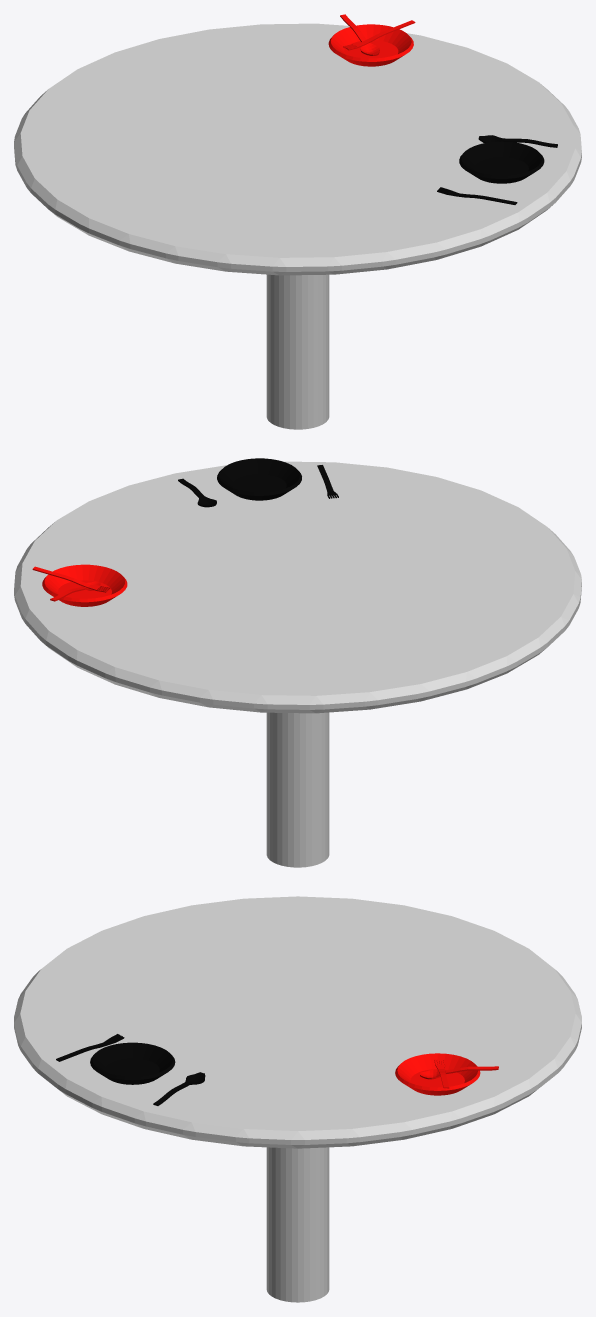
The model's file is plate2.gltf.
3 views of the same model, one above another, from view 1: azimuth 30°, elevation 25°; view 2: azimuth 150°, elevation 25°; view 3: azimuth 270°, elevation 25° (orthographic).
Parts seen in each view (by area): view 1: table, plate, plate2; view 2: table, plate, plate2; view 3: table, plate, plate2.
Boxes of the visible parts, box(x1,y1,x2,y2) form: table: box(14, 23, 581, 429); plate: box(437, 135, 557, 204); plate2: box(328, 14, 415, 66); table: box(14, 461, 581, 867); plate: box(178, 458, 338, 507); plate2: box(32, 564, 127, 606); table: box(14, 896, 581, 1302); plate: box(56, 1034, 205, 1105); plate2: box(395, 1053, 498, 1095).
Bounding box in the file's own units: 3.99 × 2.28 × 3.99.
